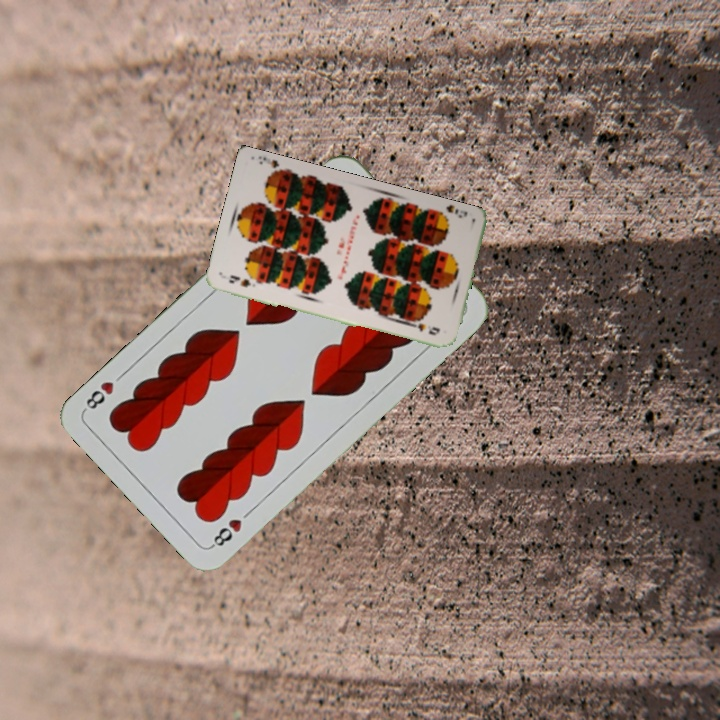H8: (207, 515, 245, 551)
S9: (432, 205, 470, 222), (224, 271, 258, 290)
